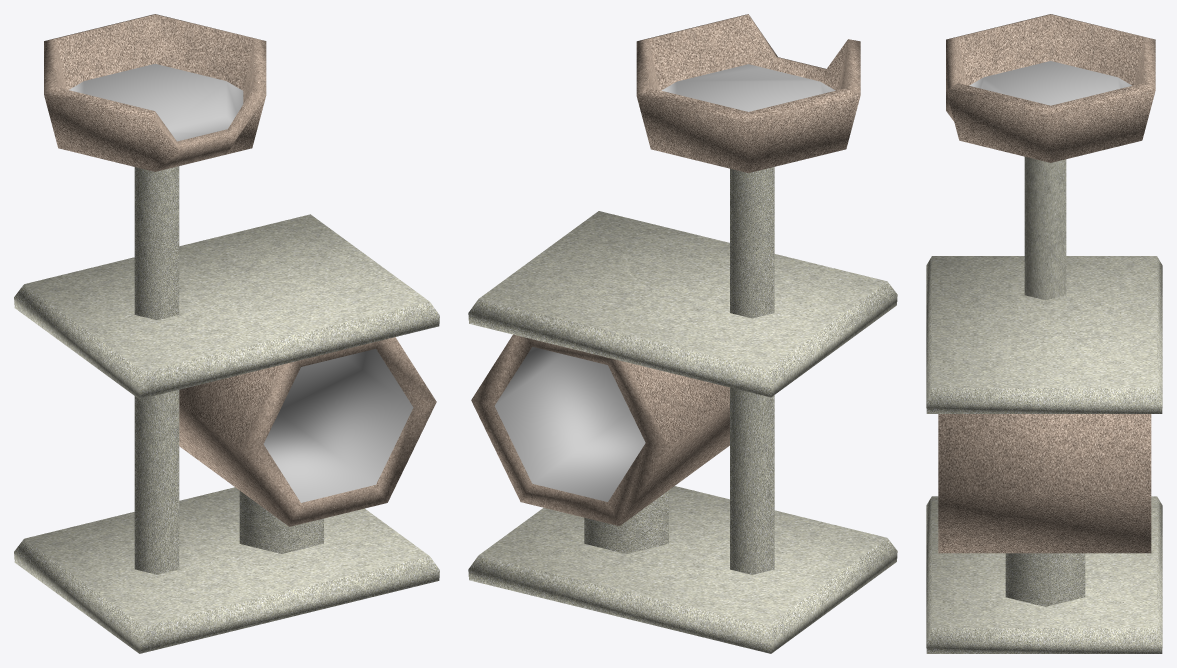
The model's file is Kitty_Tree_B_2.FBX.
3 views of the same model, side by side, from view 1: azimuth 30°, elevation 25°; view 2: azimuth 150°, elevation 25°; view 3: azimuth 270°, elevation 25° (orthographic). The views are drawn at different scales.
Visible parts, largest first — view 1: Kitty Tree; view 2: Kitty Tree; view 3: Kitty Tree.
Boxes of the visible parts, box(x1,y1,x2,y2) form: Kitty Tree: box(14, 14, 439, 653); Kitty Tree: box(468, 14, 897, 653); Kitty Tree: box(926, 14, 1162, 653).
Bounding box in the file's own units: 119 × 178 × 77.38.
